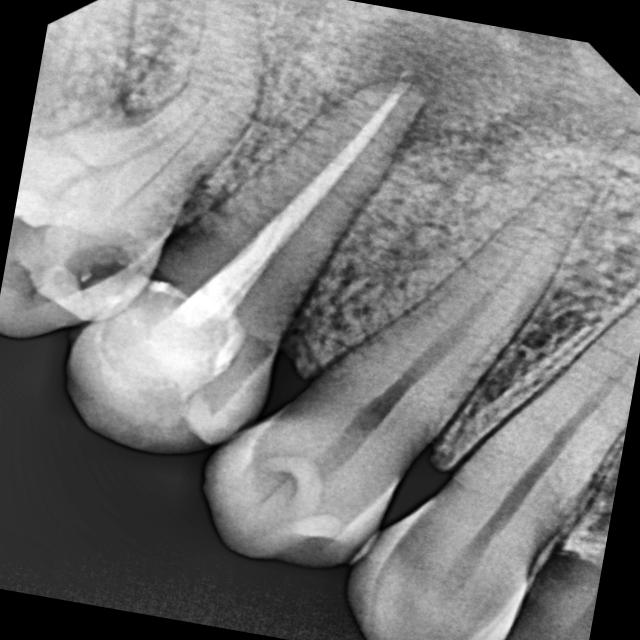Caries: (7, 196, 229, 384), (266, 463, 454, 624)
RCT: (123, 53, 449, 409)
